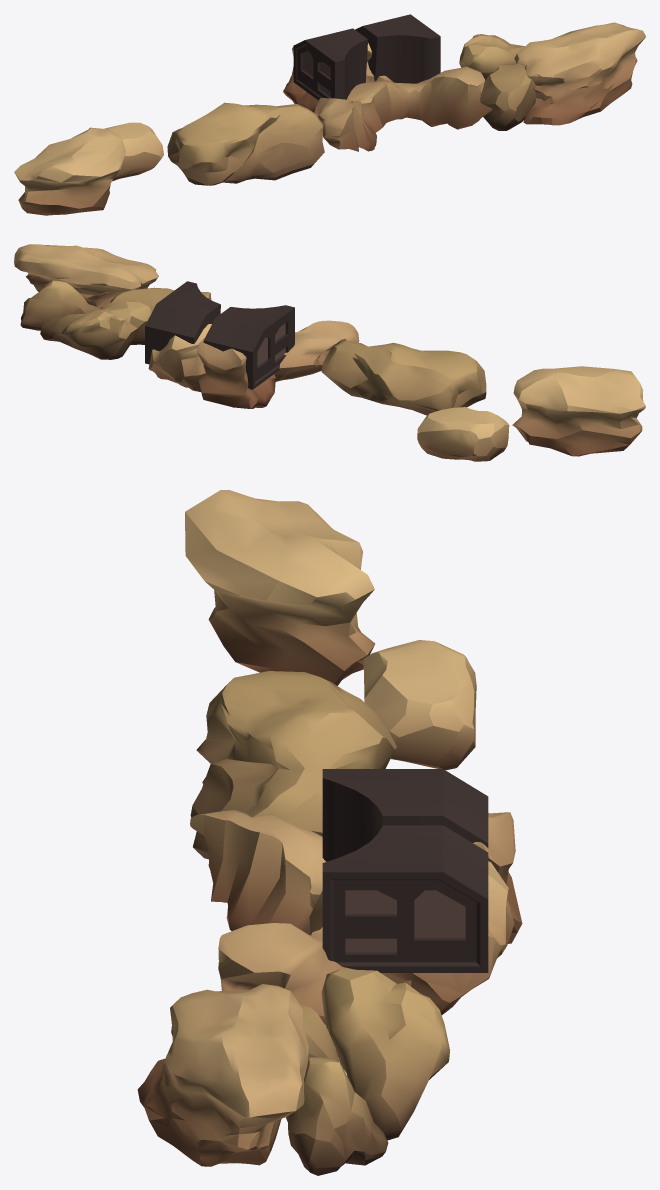
Rendered from factory and rocks.fbx.
The picture shows the model from 3 angles, top to bottom: view 1: azimuth 30°, elevation 25°; view 2: azimuth 150°, elevation 25°; view 3: azimuth 270°, elevation 25°; orthographic projection. The views are drawn at different scales.
Parts seen in each view (by area): view 1: stone7, stone3, factory, stone4, stone8, stone1, rock, stone2, stone6; view 2: stone8, stone7, factory, stone3, rock, stone2, stone6, stone4, stone5, stone, stone1; view 3: factory, stone8, stone3, stone7, stone4, stone2, rock, stone, stone5, stone6, stone1.
Part boxes in pixels (<box>): stone7: <box>167,102,324,185</box>; stone3: <box>514,22,645,125</box>; factory: <box>293,14,440,100</box>; stone4: <box>314,66,492,151</box>; stone8: <box>14,127,125,215</box>; stone1: <box>480,64,535,130</box>; rock: <box>104,122,163,181</box>; stone2: <box>459,34,524,79</box>; stone6: <box>283,46,318,112</box>; stone8: <box>512,366,645,456</box>; stone7: <box>321,340,486,415</box>; factory: <box>145,281,294,389</box>; stone3: <box>14,244,158,308</box>; rock: <box>417,407,509,461</box>; stone2: <box>40,301,151,359</box>; stone6: <box>196,338,275,408</box>; stone4: <box>201,292,359,381</box>; stone5: <box>148,324,211,391</box>; stone: <box>20,280,101,330</box>; stone1: <box>102,287,174,345</box>; factory: <box>322,769,488,972</box>; stone8: <box>185,490,375,685</box>; stone3: <box>137,984,308,1166</box>; stone7: <box>190,671,396,859</box>; stone4: <box>190,810,353,1024</box>; stone2: <box>321,969,449,1140</box>; rock: <box>363,640,476,770</box>; stone: <box>286,1057,388,1175</box>; stone5: <box>381,861,514,1014</box>; stone6: <box>473,812,522,943</box>; stone1: <box>171,990,339,1062</box>.
Size of the model in its own units: 1511 by 190 by 405.
